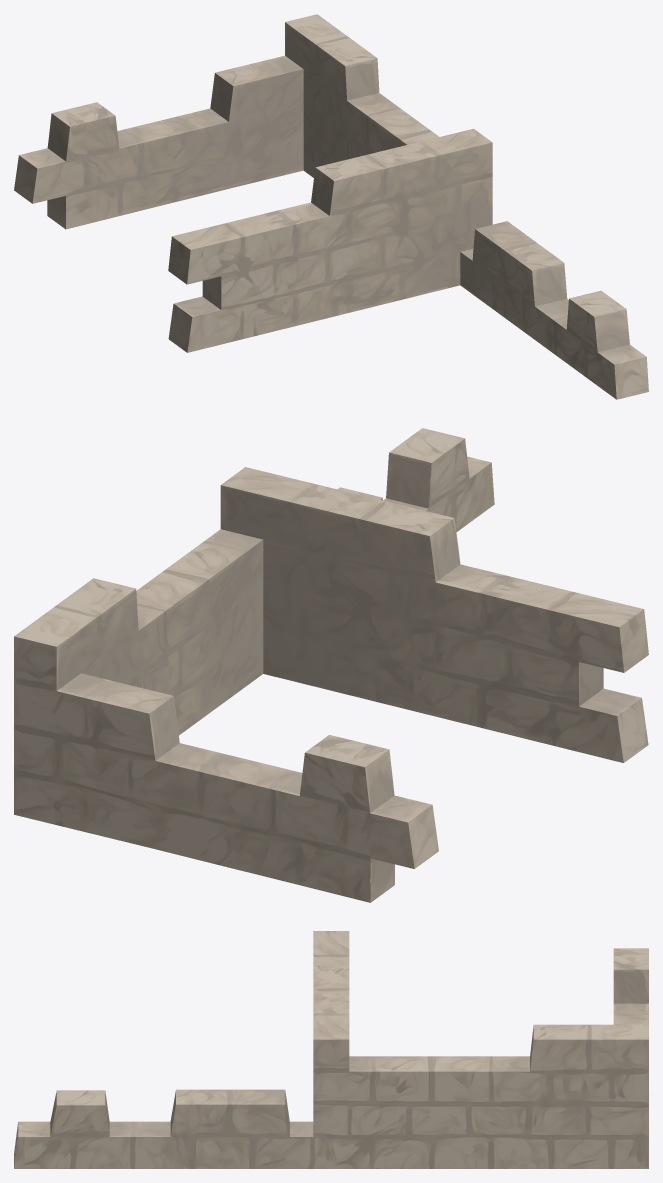
The model's file is sciana_1.obj.
3 views of the same model, one above another, from view 1: azimuth 30°, elevation 25°; view 2: azimuth 150°, elevation 25°; view 3: azimuth 270°, elevation 25° (orthographic). The views are drawn at different scales.
Parts seen in each view (by area): view 1: lowpoly2; view 2: lowpoly2; view 3: lowpoly2.
Boxes of the visible parts, x1,y1,x2,y2 form: lowpoly2: [14, 14, 648, 399]; lowpoly2: [14, 428, 648, 902]; lowpoly2: [14, 931, 648, 1168].
Size of the model in its own units: 39.86 by 16.96 by 74.93.
1 material, 1 textured.
